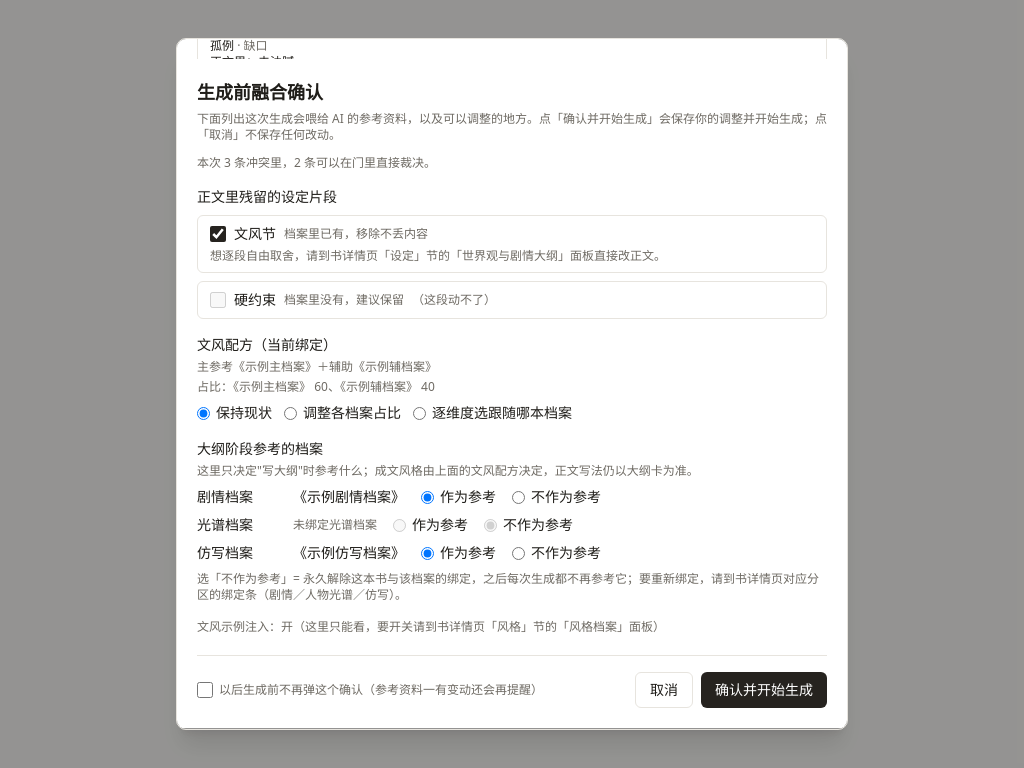
Test: FusionGateDialog（Task-05 门组件） › legacySplits 在场：六组逐维 label + 旧结构分裂灰字 + 哨兵项共存
(page scrolled)
Click the radio button with aria-label "文风调整：逐维度选跟随哪本档案". click: (420, 413)
box: [413,407,426,420]
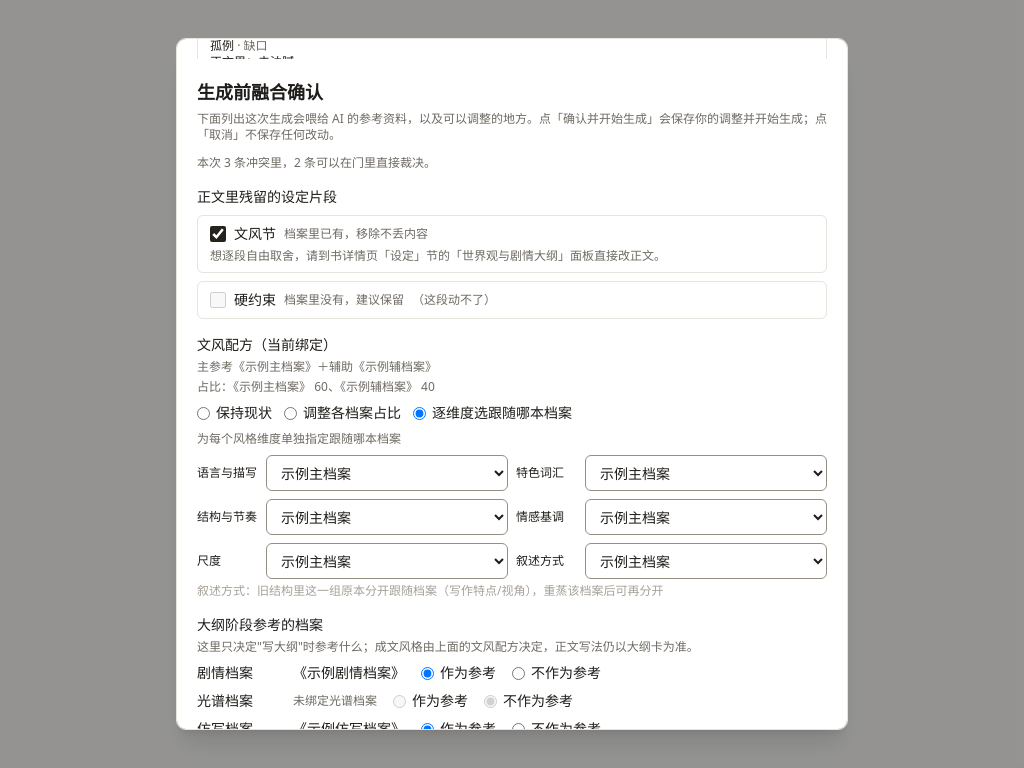
Now the dropdown named "跟随：语言与描写" is shown, box [266,455,508,491]
Now the dropdown named "跟随：结构与节奏" is shown, box [266,499,508,535]
Now the text "叙述方式：旧结构里这一组原本分开跟随档案（写作特点/视角），重蒸该档案后可再分开" is shown, box [197,582,664,599]
